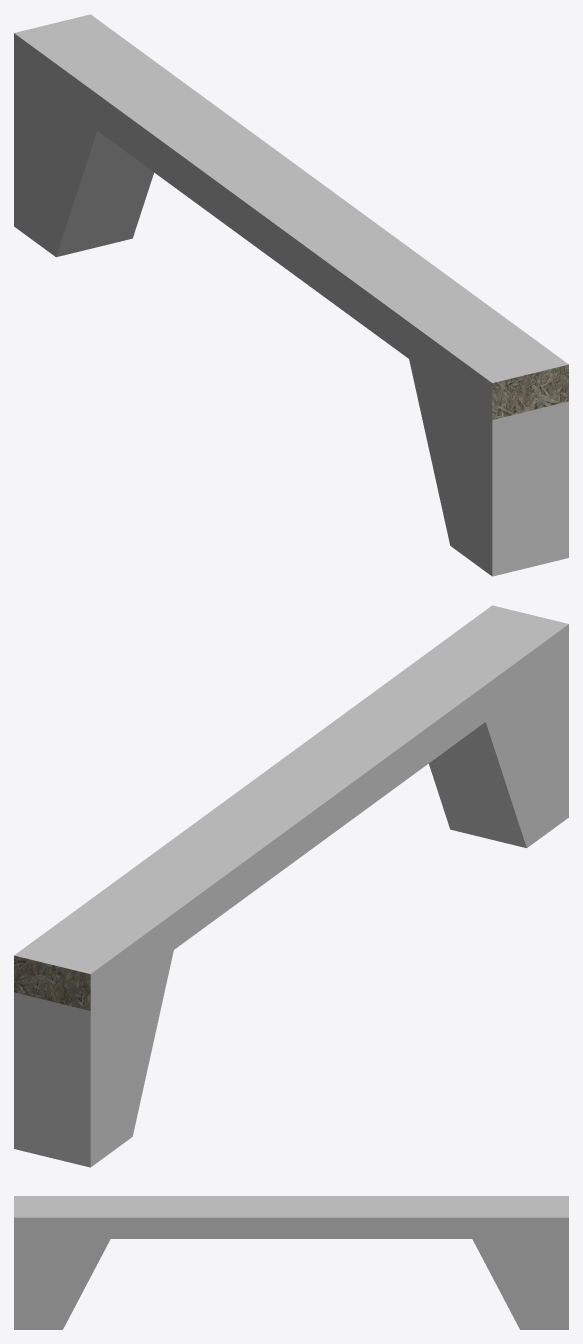
File: SeatBLeg.fbx
The picture shows the model from 3 angles, top to bottom: view 1: azimuth 30°, elevation 25°; view 2: azimuth 150°, elevation 25°; view 3: azimuth 270°, elevation 25°; orthographic projection. The views are drawn at different scales.
Visible parts, largest first — view 1: SeatBLeg; view 2: SeatBLeg; view 3: SeatBLeg.
Boxes of the visible parts, x1,y1,x2,y2 form: SeatBLeg: (14, 14, 568, 576); SeatBLeg: (14, 605, 568, 1167); SeatBLeg: (14, 1196, 568, 1329).
Bounding box in the file's own units: 7.98 × 19.26 × 86.32.
